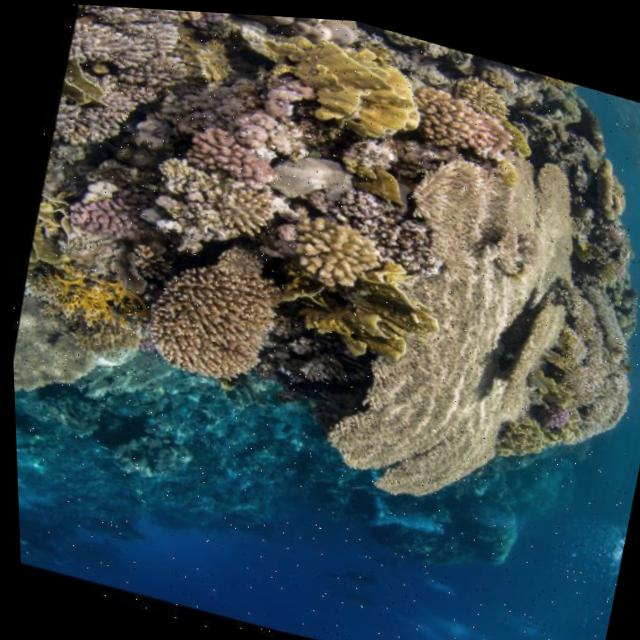Healthy Coral: (294, 106, 603, 544), (114, 241, 290, 409), (42, 2, 208, 175), (247, 12, 438, 154), (285, 233, 447, 386), (166, 49, 320, 167), (268, 197, 384, 296), (406, 74, 522, 167), (179, 123, 288, 198), (33, 258, 126, 332), (225, 10, 365, 57), (63, 188, 146, 248), (171, 25, 234, 90), (53, 51, 110, 112), (201, 237, 268, 280), (177, 8, 232, 30)
